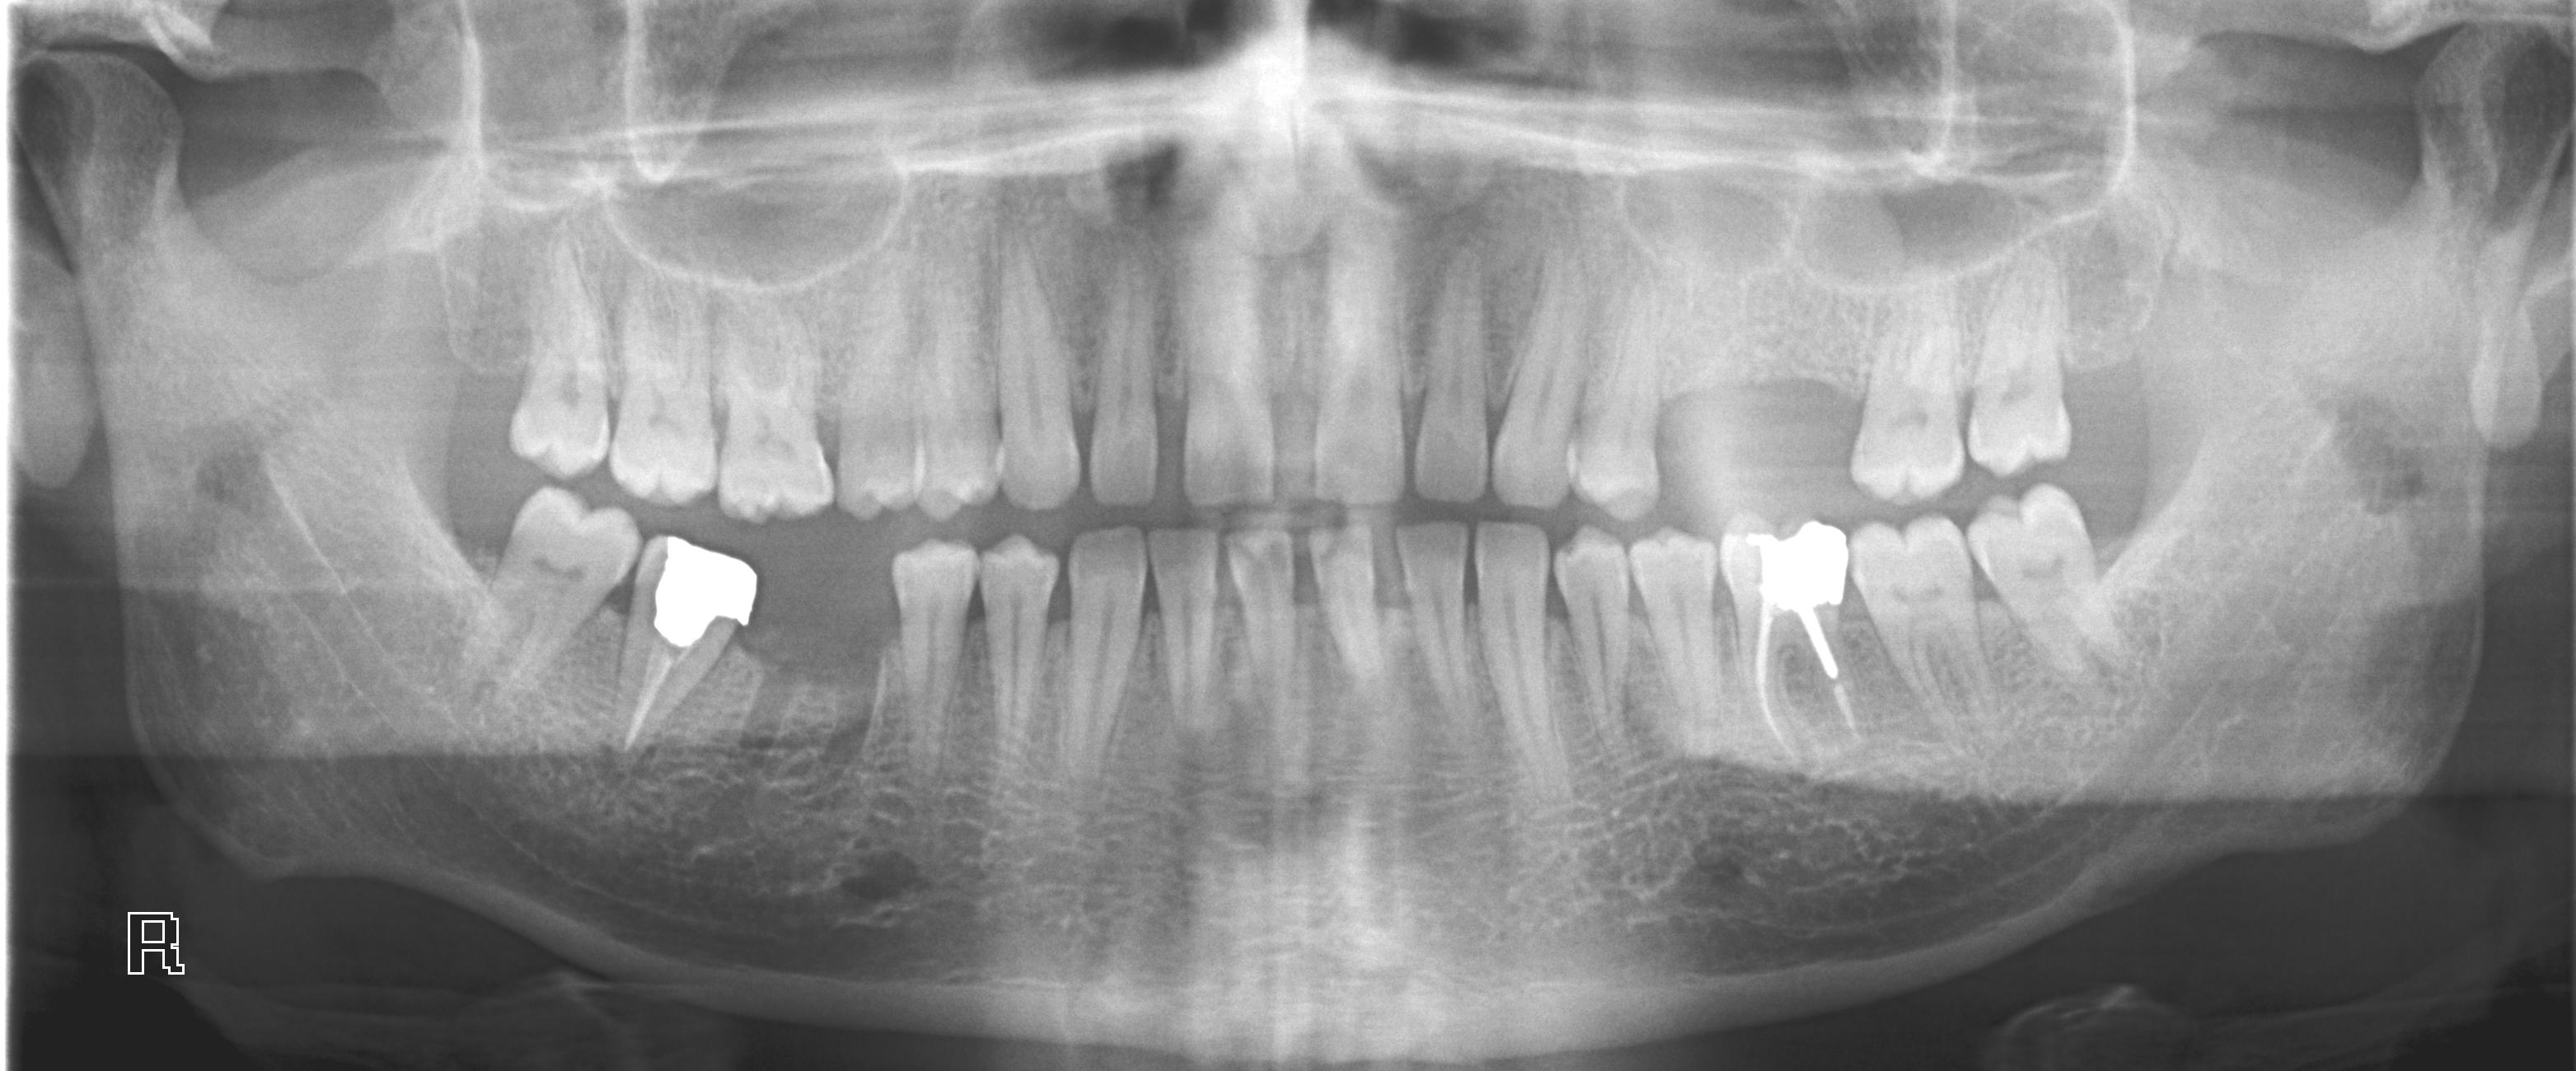Çürük: (644, 522, 772, 659), (1732, 506, 1860, 626)
